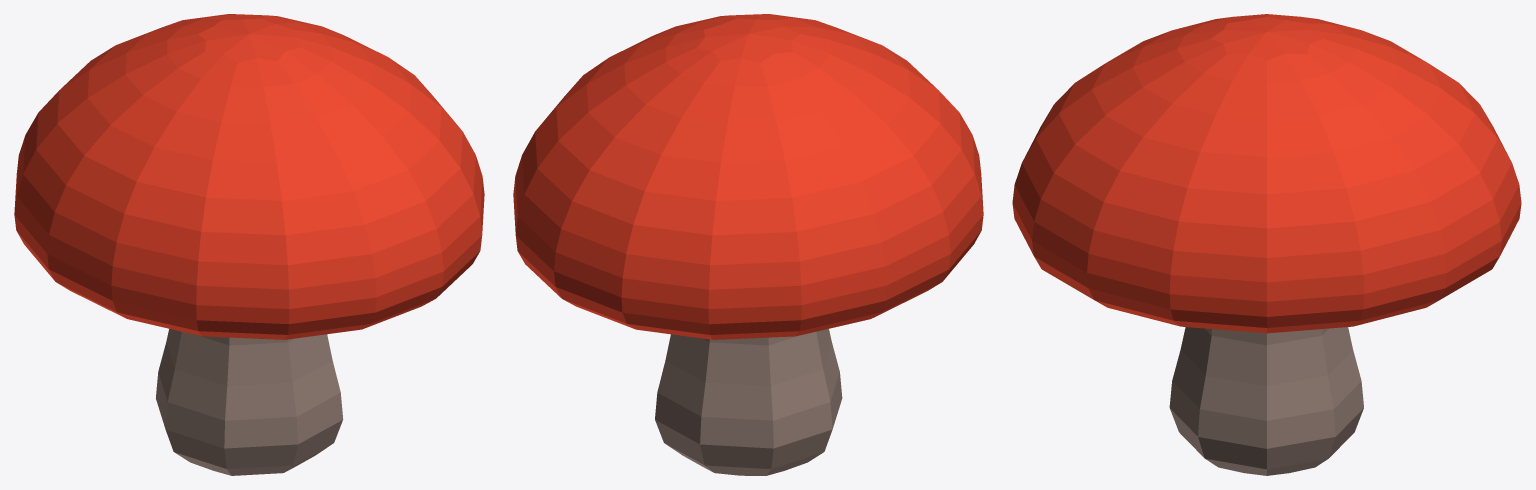
File: CogumeloVermelho.fbx
3 views of the same model, side by side, from view 1: azimuth 30°, elevation 25°; view 2: azimuth 150°, elevation 25°; view 3: azimuth 270°, elevation 25° (orthographic).
Parts seen in each view (by area): view 1: Circle.003; view 2: Circle.003; view 3: Circle.003.
Boxes of the visible parts, box(x1,y1,x2,y2) form: Circle.003: box(14, 14, 484, 475); Circle.003: box(513, 14, 983, 475); Circle.003: box(1012, 14, 1521, 475).
Bounding box in the file's own units: 13.28 × 13.31 × 14.44.
